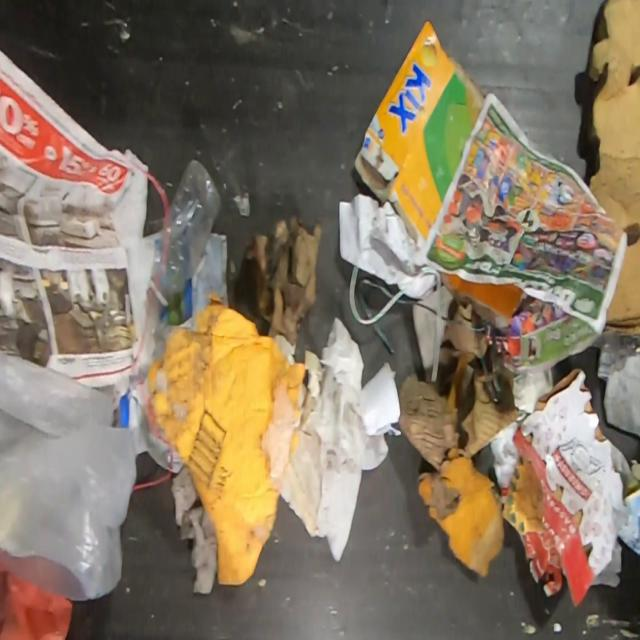cardboard: (146, 292, 304, 587), (352, 16, 490, 252), (490, 369, 624, 609), (399, 273, 521, 470), (587, 0, 640, 340), (416, 452, 545, 577), (245, 217, 326, 353)
rigid_plastic: (145, 157, 225, 313)
soft_plastic: (0, 346, 139, 605)
